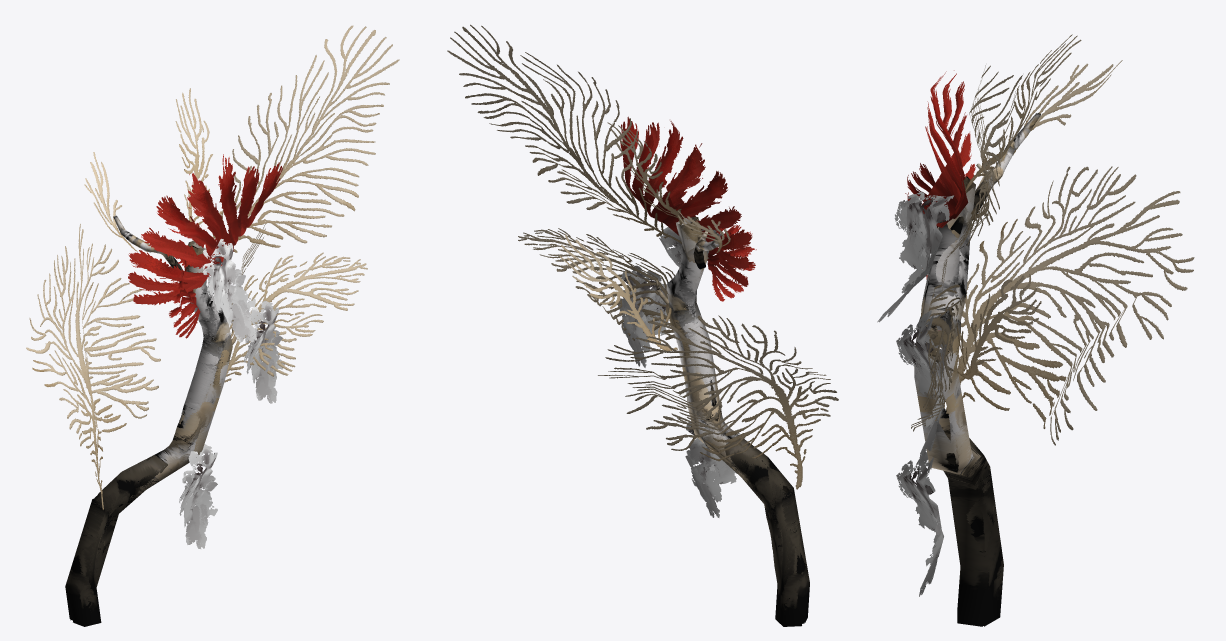
3 views of the same model, side by side, from view 1: azimuth 30°, elevation 25°; view 2: azimuth 150°, elevation 25°; view 3: azimuth 270°, elevation 25° (orthographic). The views are drawn at different scales.
Visible parts, largest first — view 1: C03; view 2: C03; view 3: C03.
Boxes of the visible parts, x1,y1,x2,y2 form: C03: [26, 25, 399, 626]; C03: [447, 24, 838, 626]; C03: [877, 34, 1194, 626].
Size of the model in its own units: 616 by 803 by 326.
